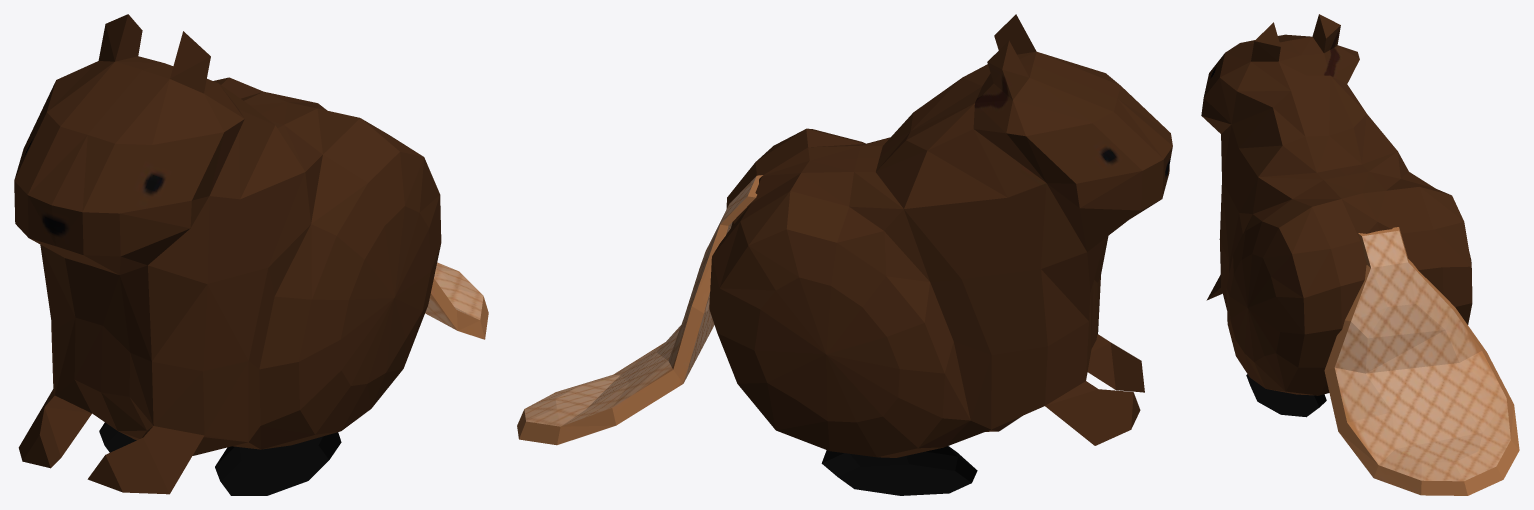
The model's file is beaver.gltf.
3 renders of one model, left to right at view 1: azimuth 30°, elevation 25°; view 2: azimuth 150°, elevation 25°; view 3: azimuth 270°, elevation 25°, orthographic. The views are drawn at different scales.
Visible parts, largest first — view 1: beaver; view 2: beaver; view 3: beaver.
Part boxes in pixels (box(x1,y1,x2,y2)): beaver: box(14, 14, 488, 495); beaver: box(517, 14, 1172, 495); beaver: box(1201, 14, 1519, 495).
Bounding box in the file's own units: 1.08 × 0.8448 × 0.718.
1 material, 1 textured.
